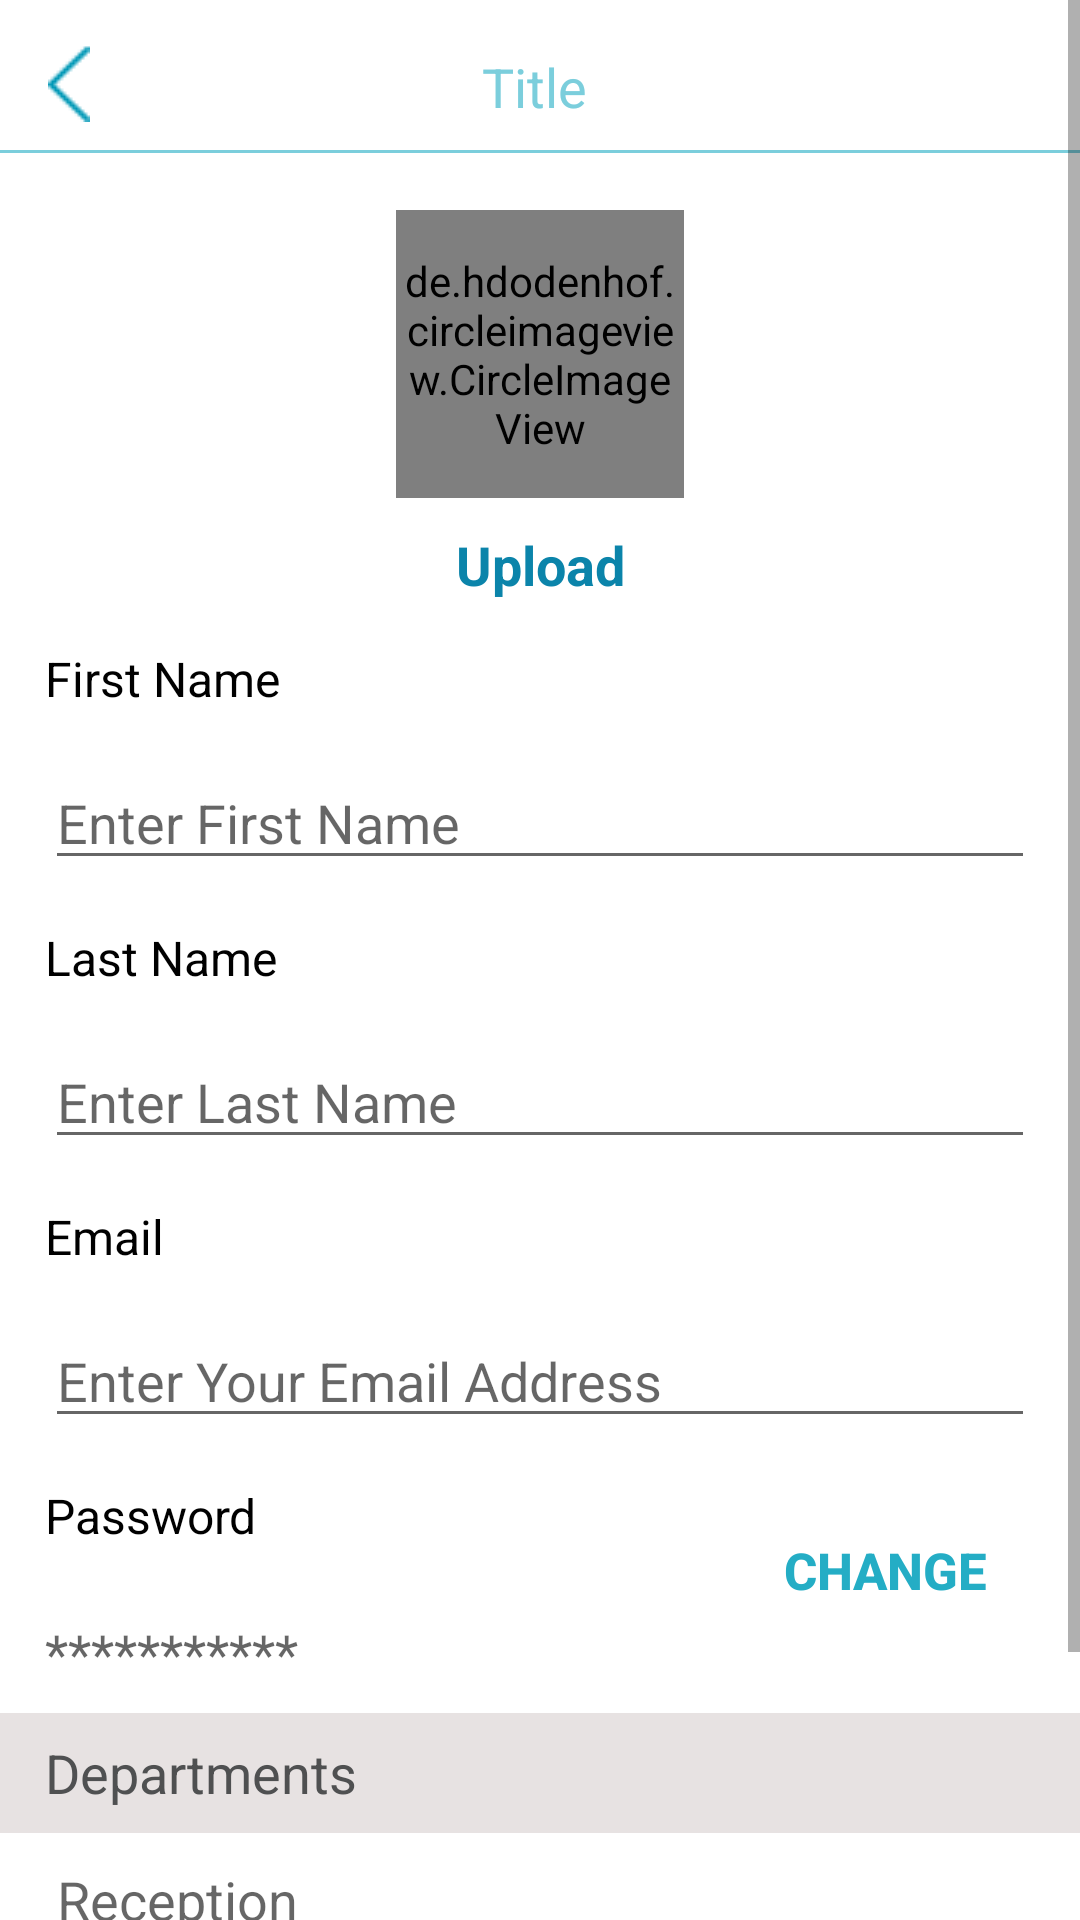

Named icons in this screenshot (1080 x 1920) and their centers, point (x, y):
left arrow: point (69, 84)
